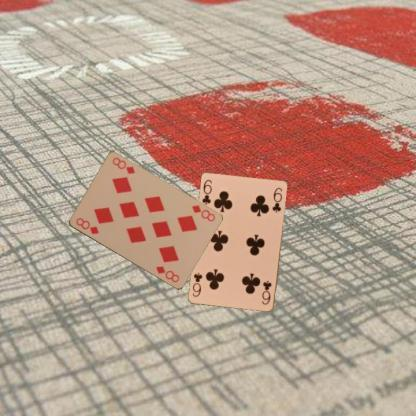6c: (259, 278, 273, 306), (200, 178, 214, 206)
8d: (73, 215, 100, 236), (189, 202, 216, 223)
